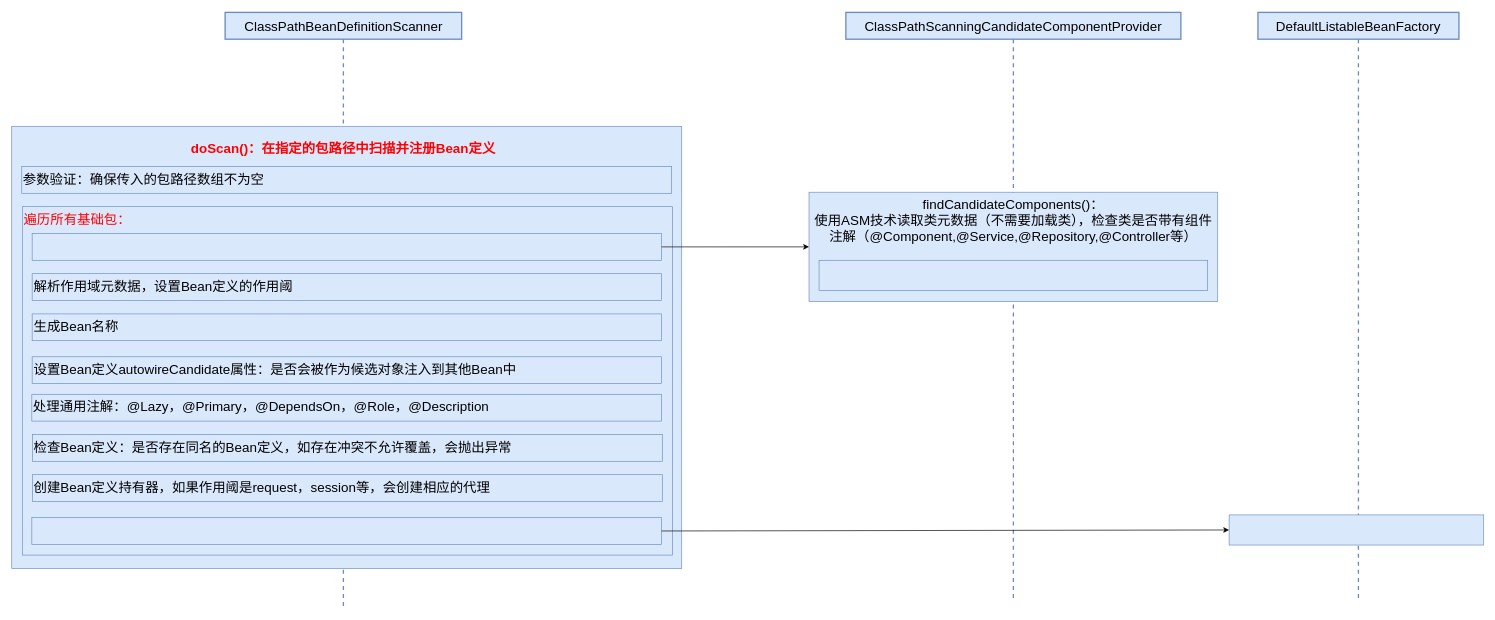
Image size: 1495x620. Some labels were removed from this diagram. The centre of each missing label's shape, as x and y in pixels:
"registerBeanDefinition()" goes at [1356,529].
"scanCandidateComponents()" goes at [1013,275].
"扫描指定包路径下的所有类文件" goes at [346,246].
"注册Bean定义" goes at [346,530].
